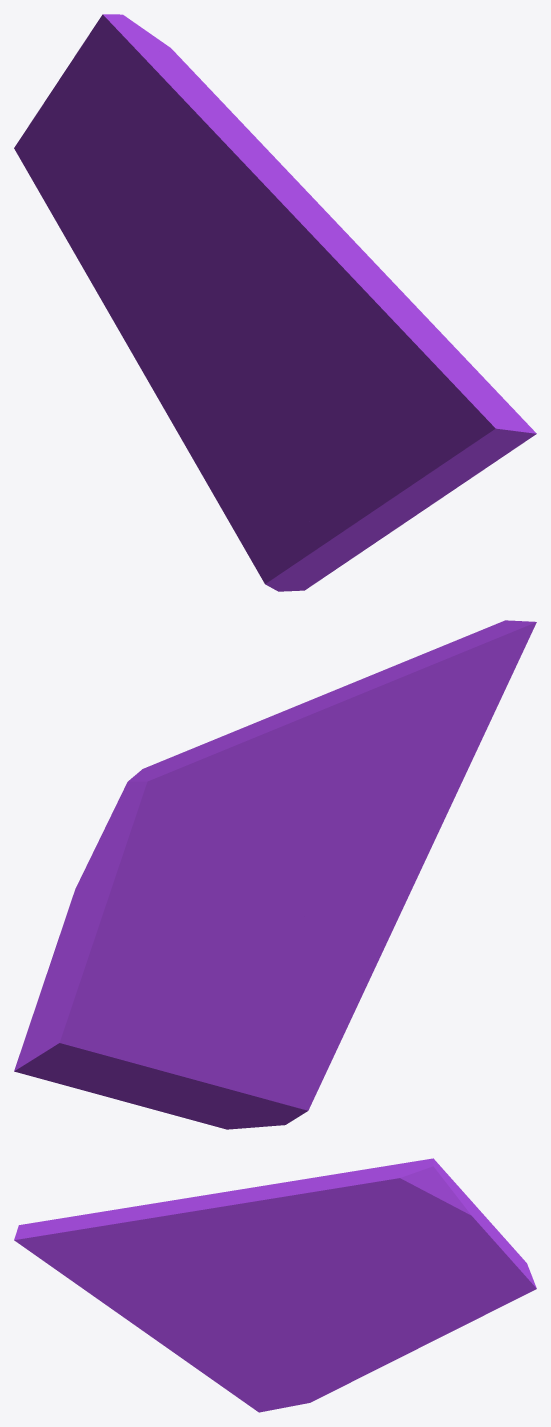
The model's file is Glass_67_3_chunks.fbx.
The picture shows the model from 3 angles, top to bottom: view 1: azimuth 30°, elevation 25°; view 2: azimuth 150°, elevation 25°; view 3: azimuth 270°, elevation 25°; orthographic projection. The views are drawn at different scales.
Visible parts, largest first — view 1: Glass_67_3_3, Glass_67_3_1, Glass_67_3_0, Glass_67_3_2; view 2: Glass_67_3_3, Glass_67_3_1, Glass_67_3_0, Glass_67_3_2; view 3: Glass_67_3_1, Glass_67_3_2, Glass_67_3_3, Glass_67_3_0.
Part boxes in pixels (x1,y1,x2,y2): Glass_67_3_3: [130, 43, 531, 452]; Glass_67_3_1: [14, 14, 194, 375]; Glass_67_3_0: [145, 293, 318, 591]; Glass_67_3_2: [250, 351, 536, 582]; Glass_67_3_3: [152, 620, 536, 923]; Glass_67_3_1: [14, 765, 238, 1109]; Glass_67_3_0: [156, 902, 361, 1129]; Glass_67_3_2: [293, 620, 507, 996]; Glass_67_3_1: [329, 1158, 536, 1364]; Glass_67_3_2: [14, 1238, 338, 1403]; Glass_67_3_3: [15, 1163, 404, 1275]; Glass_67_3_0: [247, 1307, 385, 1412].
Bounding box in the file's own units: 27.2 × 331 × 638.
